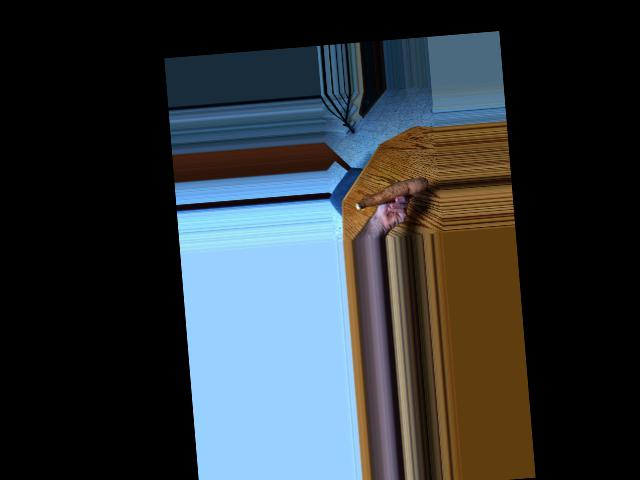sweet_potato: (354, 173, 428, 214)
